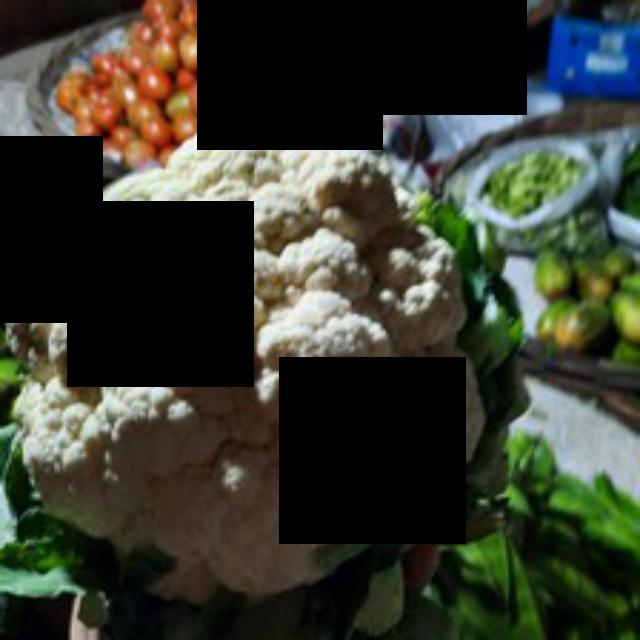cauliflower: (9, 115, 501, 608)
